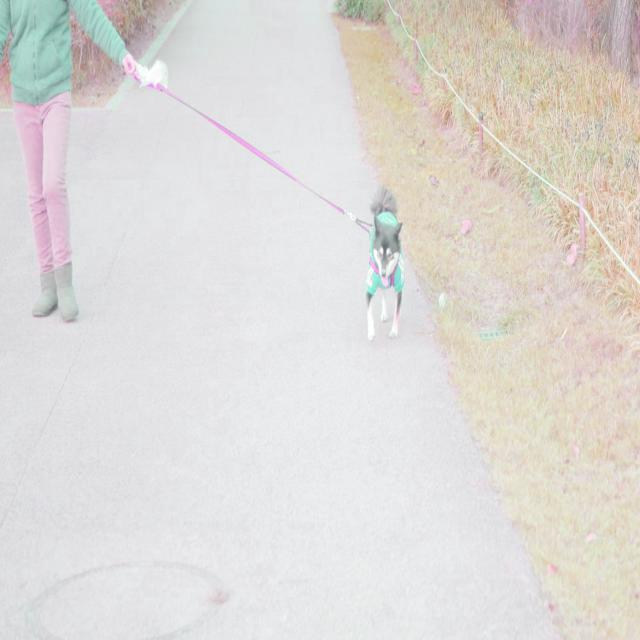Leashed_Dog: (53, 41, 404, 342)
